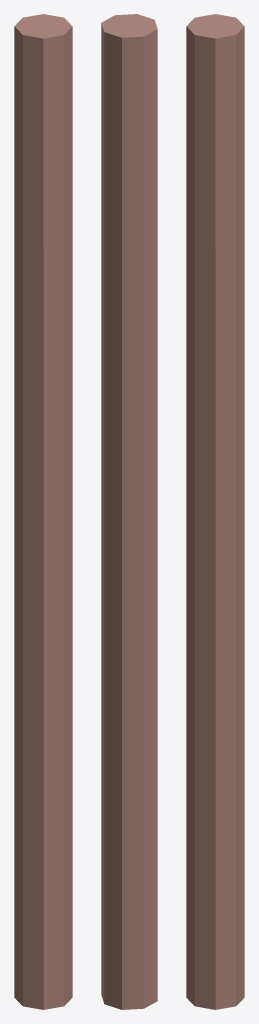
File: incense_unlit.fbx
3 renders of one model, left to right at view 1: azimuth 90°, elevation 25°; view 2: azimuth 210°, elevation 25°; view 3: azimuth 270°, elevation 25°, orthographic.
Parts seen in each view (by area): view 1: insence_unlit; view 2: insence_unlit; view 3: insence_unlit.
Boxes of the visible parts, bbox=[...] form: insence_unlit: bbox=[14, 14, 72, 1009]; insence_unlit: bbox=[101, 14, 157, 1009]; insence_unlit: bbox=[186, 14, 244, 1009].
Size of the model in its own units: 0.0713 by 1.31 by 0.0713.
